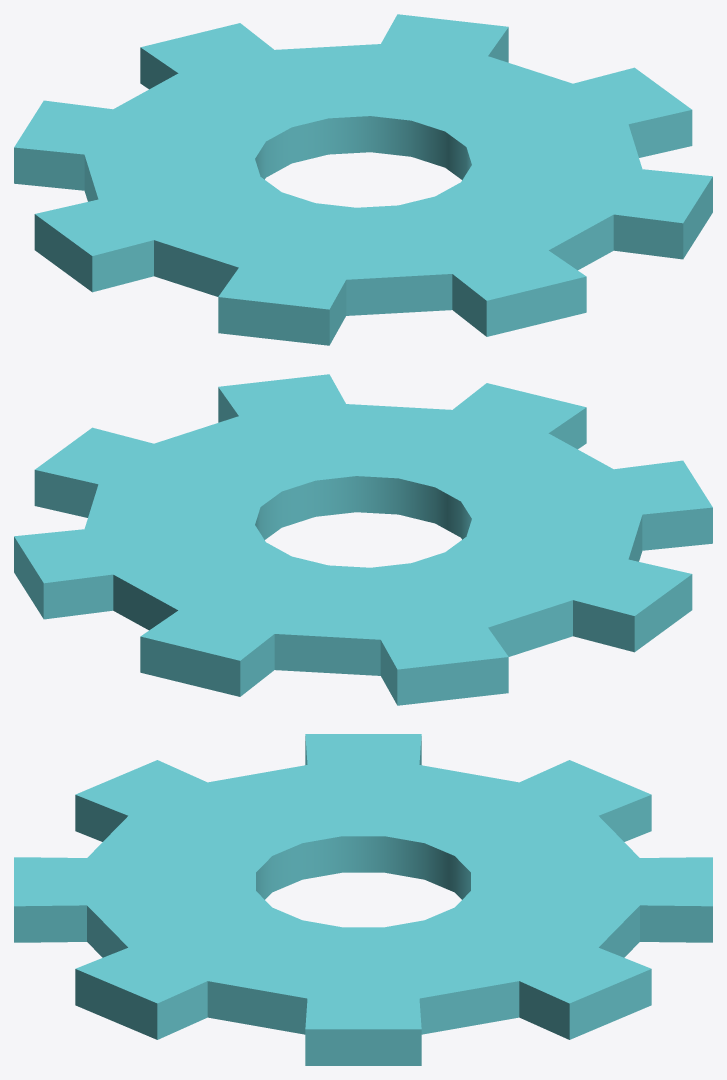
The model's file is asiba_3.fbx.
3 renders of one model, top to bottom at view 1: azimuth 30°, elevation 25°; view 2: azimuth 150°, elevation 25°; view 3: azimuth 270°, elevation 25°, orthographic.
Parts seen in each view (by area): view 1: pGear1; view 2: pGear1; view 3: pGear1.
Part boxes in pixels (x1,y1,x2,y2): pGear1: (14, 14, 712, 345); pGear1: (14, 374, 712, 705); pGear1: (14, 734, 712, 1065).
Bounding box in the file's own units: 694 × 40 × 694.
